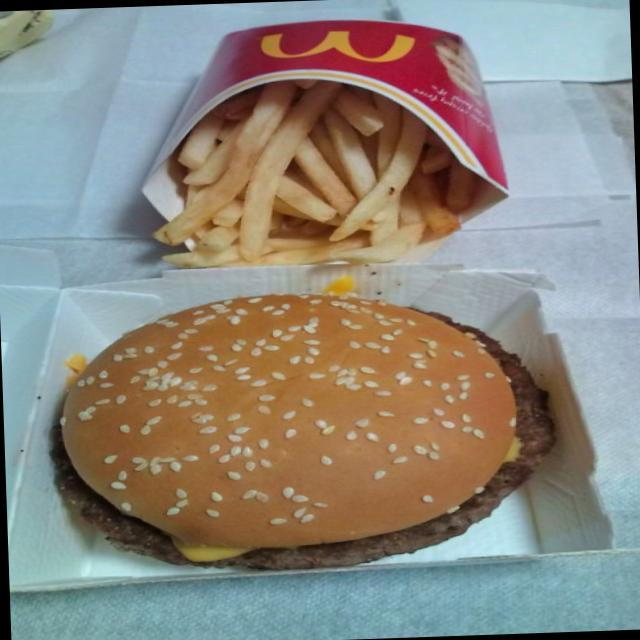French Fries: (128, 77, 494, 281)
Hamburger: (44, 275, 561, 588)
